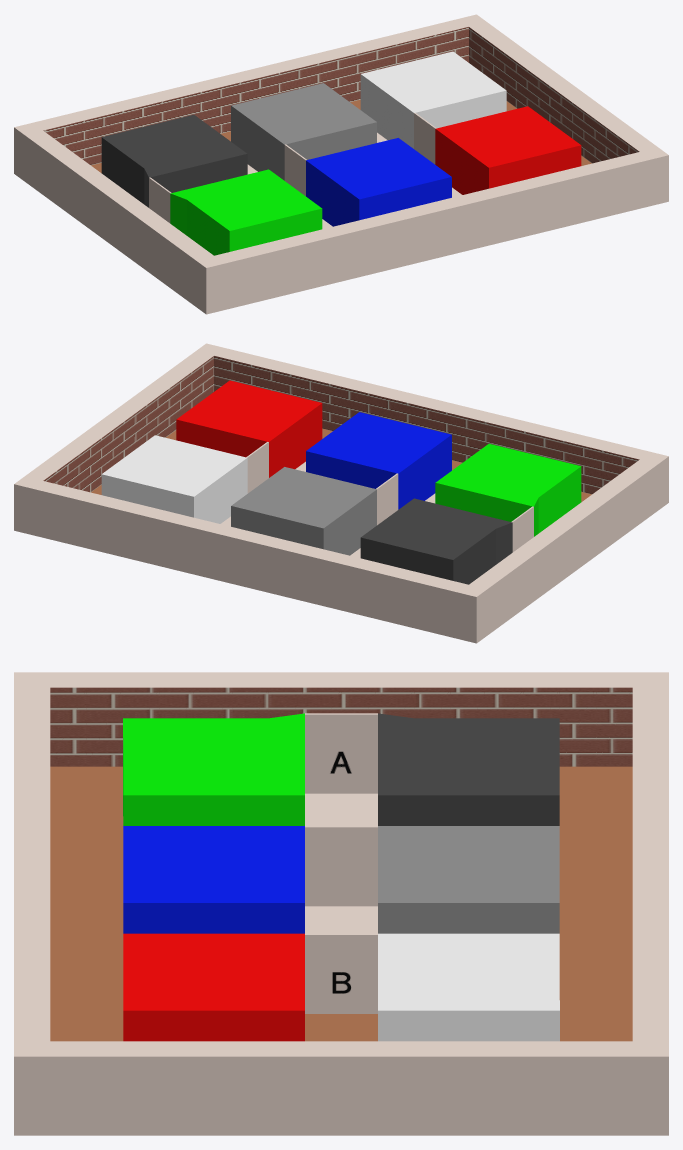
File: maze_test8.dae
3 renders of one model, top to bottom at view 1: azimuth 30°, elevation 25°; view 2: azimuth 150°, elevation 25°; view 3: azimuth 270°, elevation 25°, orthographic. The views are drawn at different scales.
Visible parts, largest first — view 1: Plane; view 2: Plane; view 3: Plane.
Boxes of the visible parts, x1=… form: Plane: x1=14, y1=14, x2=668, y2=314; Plane: x1=14, y1=343, x2=668, y2=643; Plane: x1=14, y1=672, x2=668, y2=1135.
Bounding box in the file's own units: 15.63 × 11.25 × 1.5.
1 material, 1 textured.
